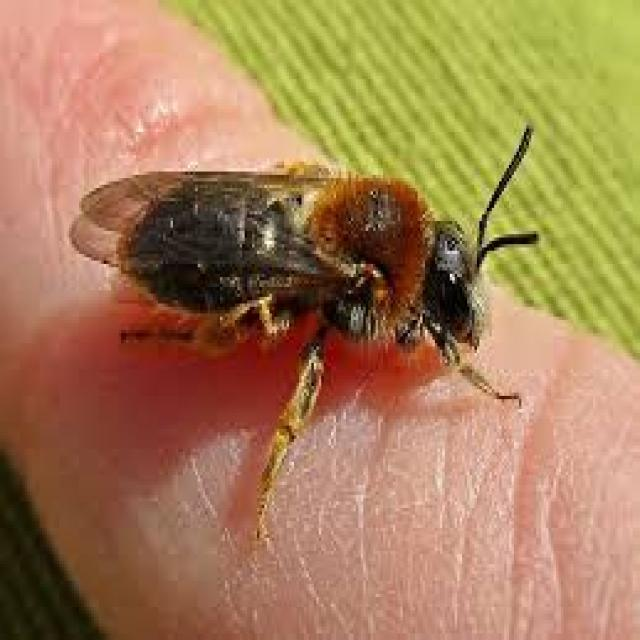Bees: (74, 123, 543, 540)
